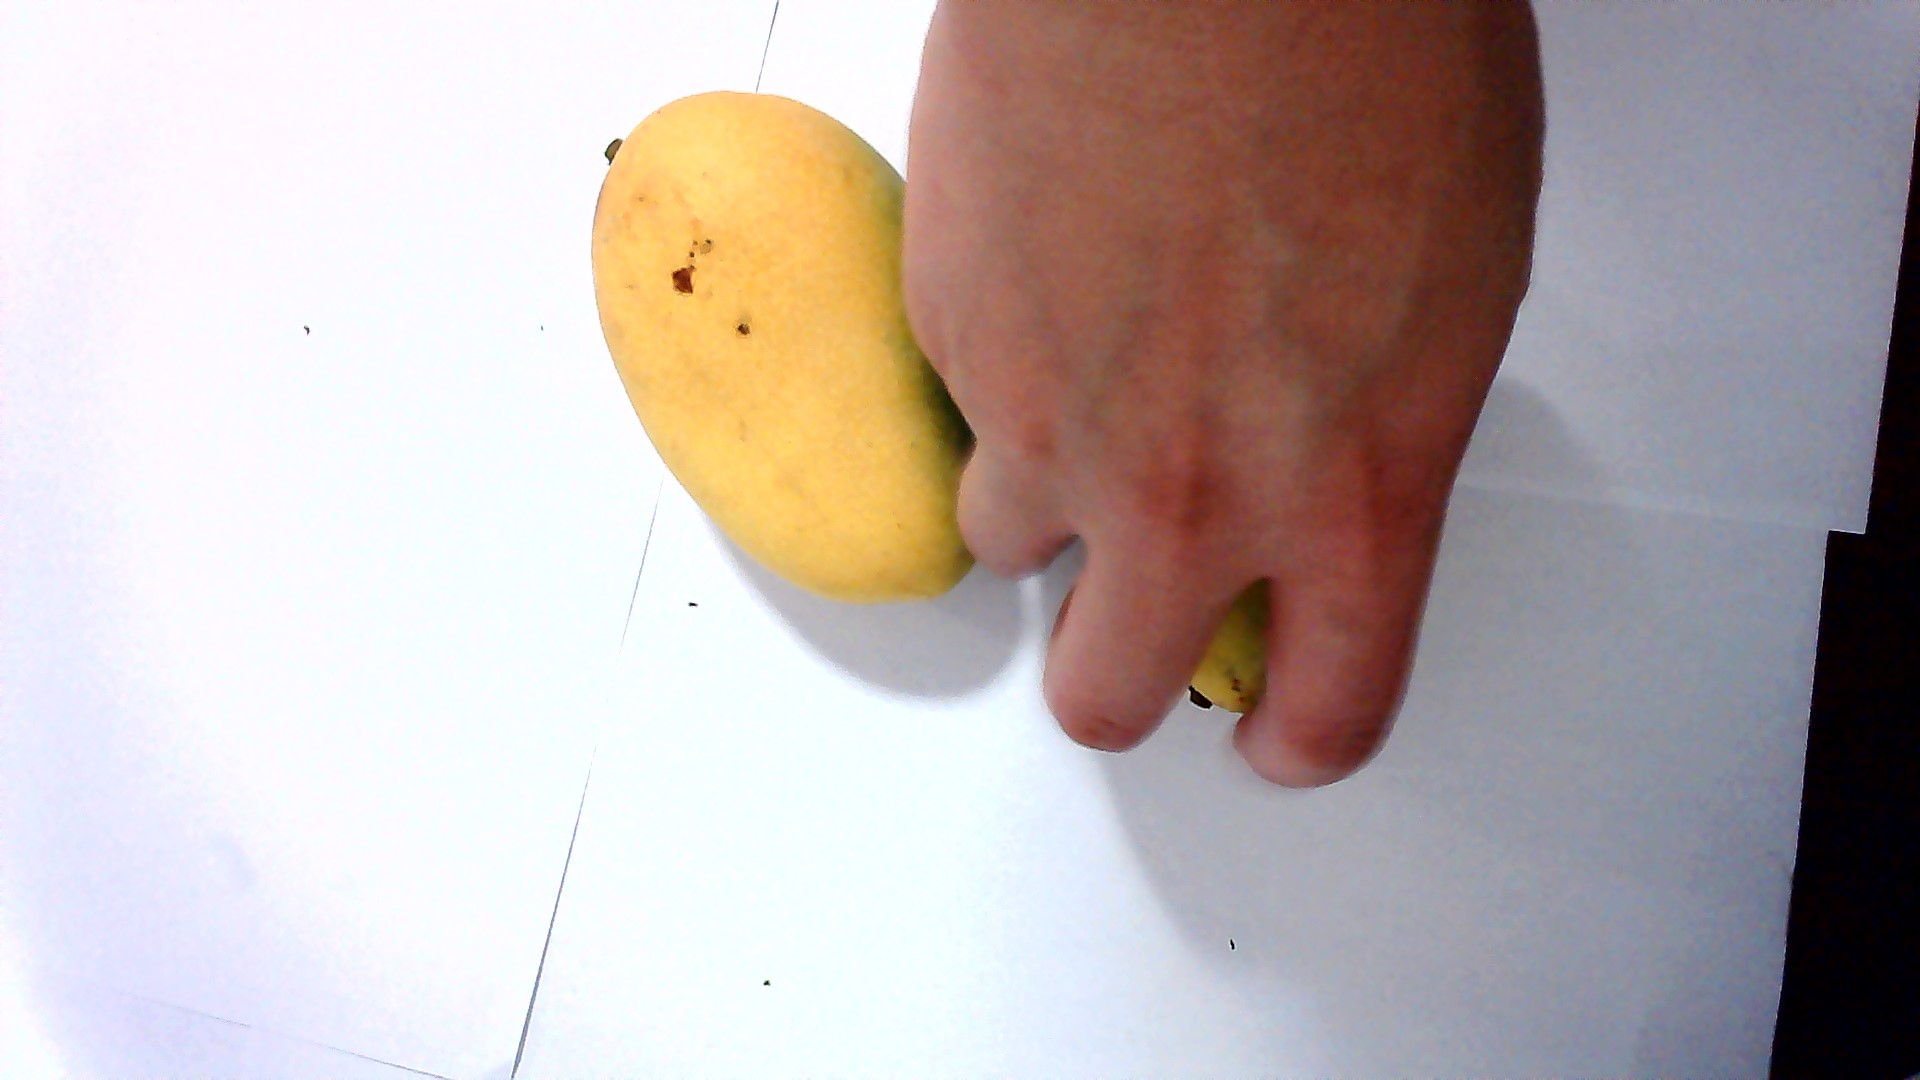mongo: (589, 105, 938, 617)
